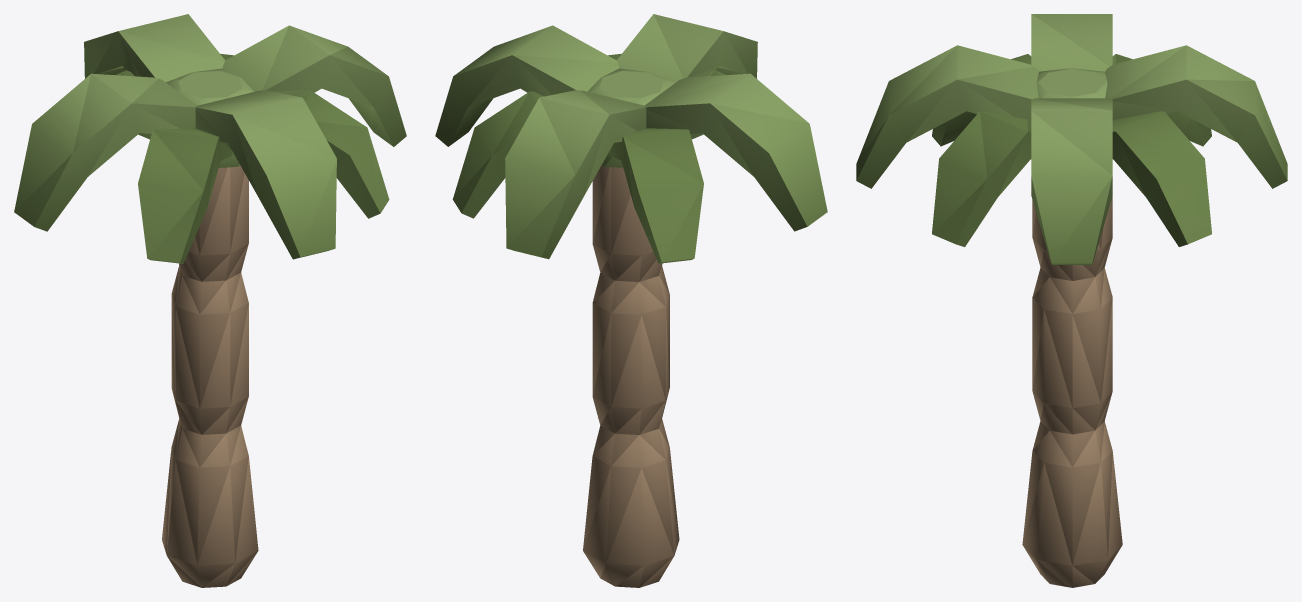
Rendered from K_Palm_Straight.glb.
3 views of the same model, side by side, from view 1: azimuth 30°, elevation 25°; view 2: azimuth 150°, elevation 25°; view 3: azimuth 270°, elevation 25° (orthographic).
Visible parts, largest first — view 1: K_Palm_Straight; view 2: K_Palm_Straight; view 3: K_Palm_Straight.
Part boxes in pixels (box(x1,y1,x2,y2)): K_Palm_Straight: box(14, 14, 406, 587); K_Palm_Straight: box(435, 14, 827, 587); K_Palm_Straight: box(856, 14, 1287, 587).
Bounding box in the file's own units: 7.25 × 9.5 × 7.25.
